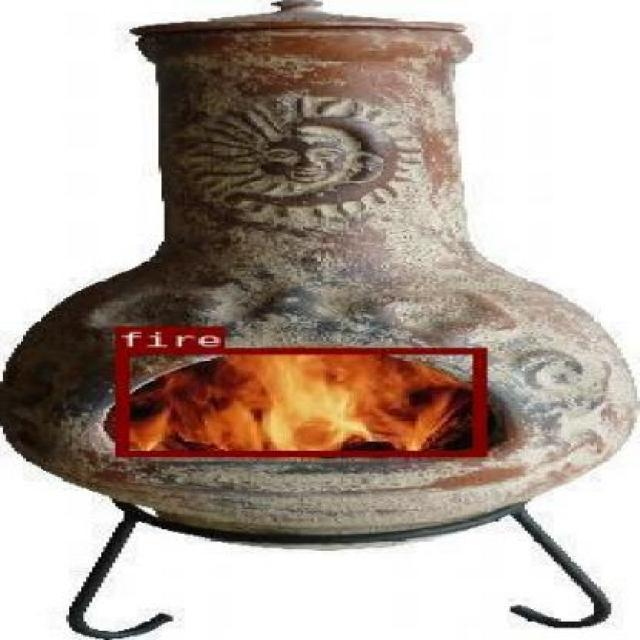Fire: (113, 348, 484, 456)
